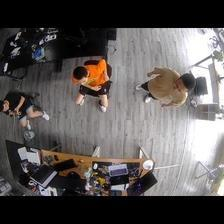normal: (138, 64, 195, 113), (1, 89, 53, 136), (69, 59, 114, 112)
